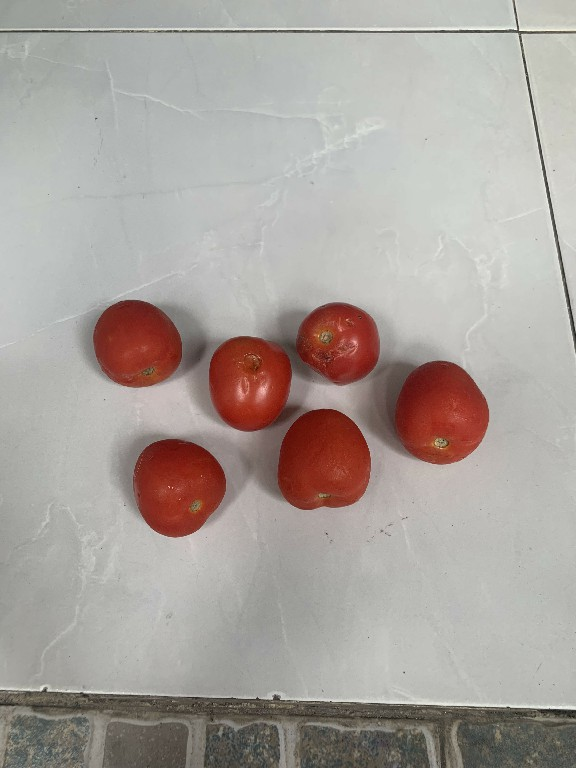NG: (205, 335, 291, 434), (293, 295, 384, 387)
OK: (384, 360, 498, 473), (123, 433, 234, 542), (81, 285, 193, 393), (279, 402, 380, 519)
